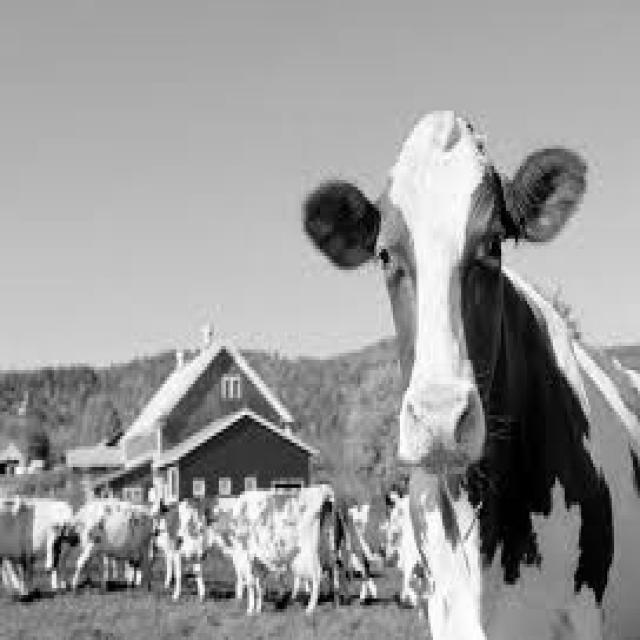Cow: (318, 31, 546, 483)
